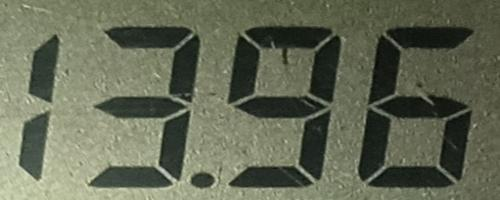.: (190, 169, 217, 197)
